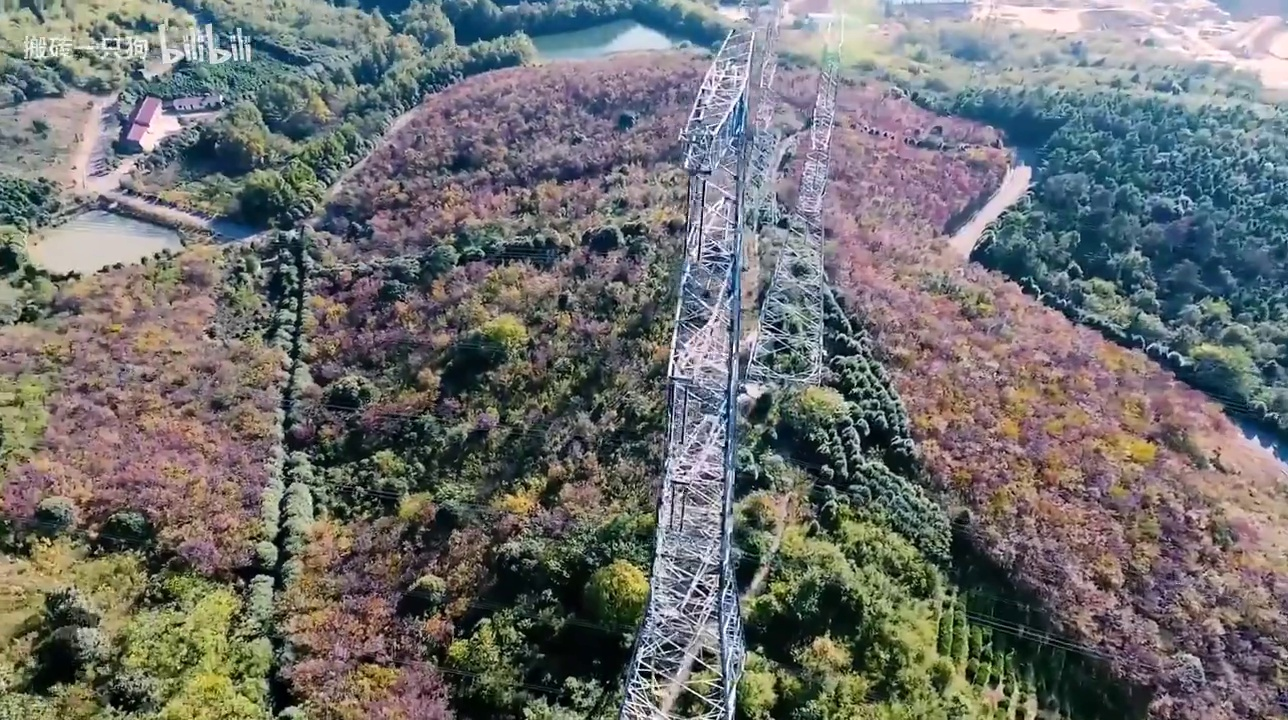tower_body: (594, 20, 805, 719)
tower_foot: (599, 558, 759, 720)
tower_head: (664, 26, 794, 178)
